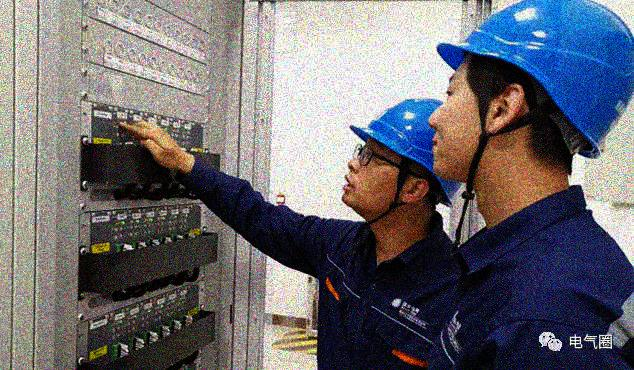helmet: (430, 3, 634, 180), (341, 96, 467, 217)
